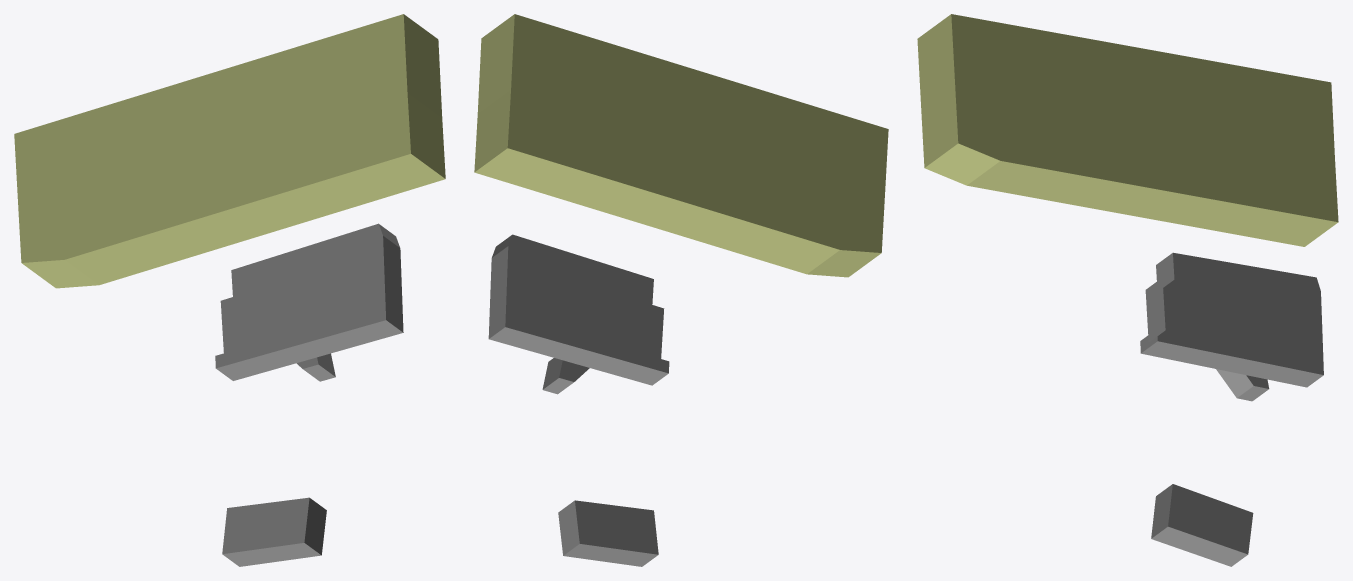
3 views of the same model, side by side, from view 1: azimuth 30°, elevation 25°; view 2: azimuth 150°, elevation 25°; view 3: azimuth 330°, elevation 25° (orthographic). The views are drawn at different scales.
Visible parts, largest first — view 1: 0_1_2_0_0_2_3_1; view 2: 0_1_2_0_0_2_3_1; view 3: 0_1_2_0_0_2_3_1.
Boxes of the visible parts, x1,y1,x2,y2 form: 0_1_2_0_0_2_3_1: (14,14,445,566); 0_1_2_0_0_2_3_1: (474,14,888,566); 0_1_2_0_0_2_3_1: (917,14,1338,566).
Bounding box in the file's own units: 39.58 × 48.75 × 7.86.
